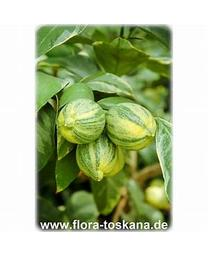lemon: (105, 100, 157, 150), (56, 99, 107, 144), (76, 134, 122, 180)
